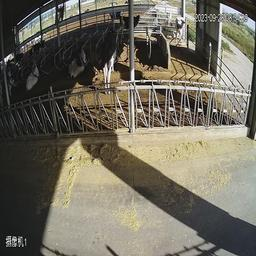cow: (93, 24, 119, 95), (62, 41, 91, 83), (116, 6, 146, 46), (2, 54, 20, 96), (23, 56, 44, 87), (171, 10, 186, 43), (25, 34, 46, 53)
